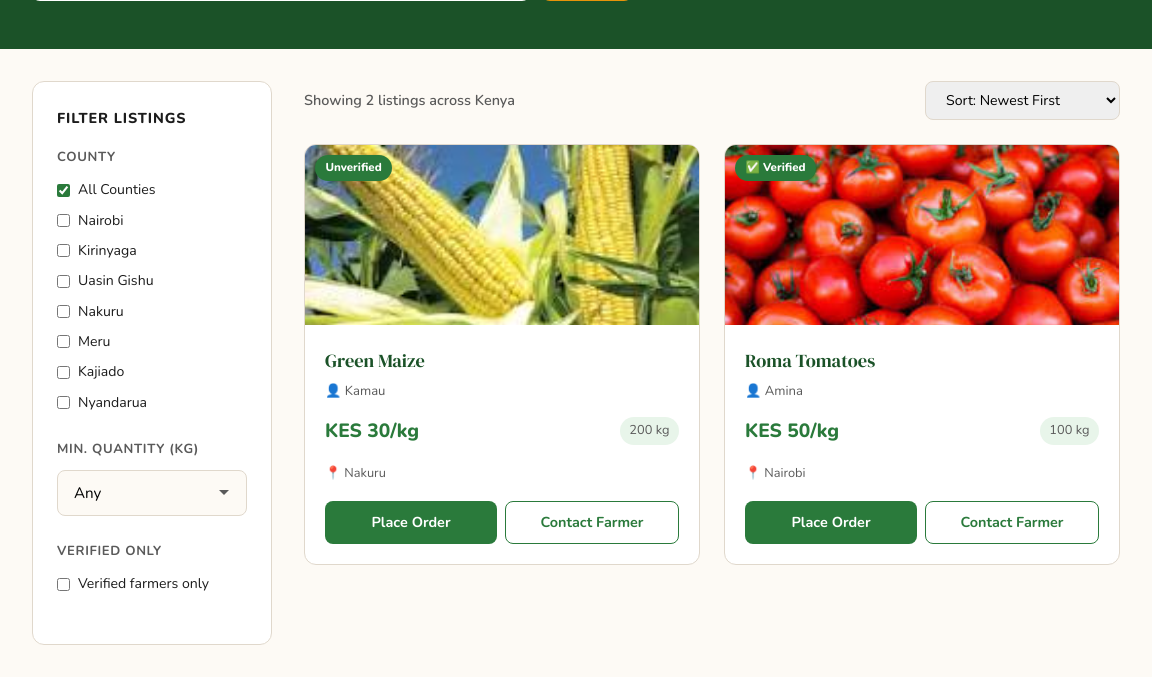
filters marketplace listings to verified farmers when selected
(page scrolled)
Expected: the text "Roma Tomatoes" is shown, top-left (745, 348), bottom-right (875, 373)
Expected: the text "Green Maize" is shown, top-left (325, 348), bottom-right (425, 373)
Click the checkbox labelled "Verified farmers only".
click(64, 584)  # box top-left (57, 578), bottom-right (70, 591)
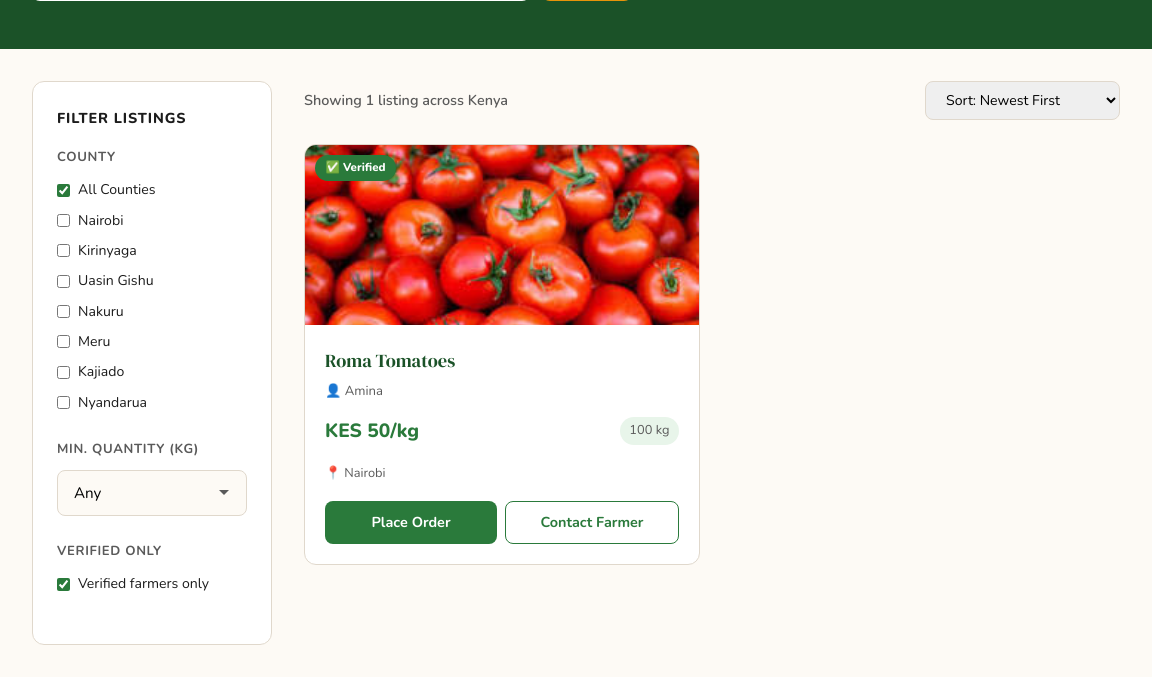
Expected: the text "Roma Tomatoes" is shown, top-left (325, 348), bottom-right (455, 373)
Expected: the text "Green Maize" is gone
